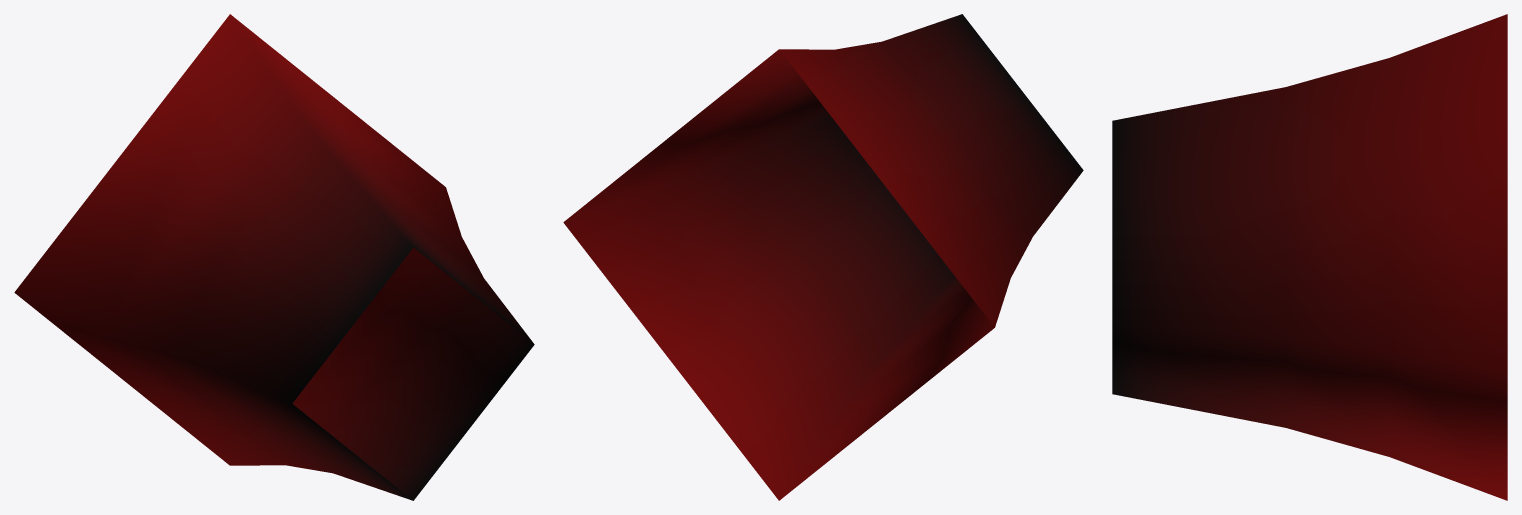
Rendered from Grass.fbx.
3 renders of one model, left to right at view 1: azimuth 30°, elevation 25°; view 2: azimuth 150°, elevation 25°; view 3: azimuth 270°, elevation 25°, orthographic. The views are drawn at different scales.
Visible parts, largest first — view 1: Grass; view 2: Grass; view 3: Grass.
Part boxes in pixels (left/top/right/bottom): Grass: left=14, top=14, right=534, bottom=500; Grass: left=563, top=14, right=1083, bottom=500; Grass: left=1112, top=14, right=1507, bottom=500.
Size of the model in its own units: 136 by 136 by 100.
